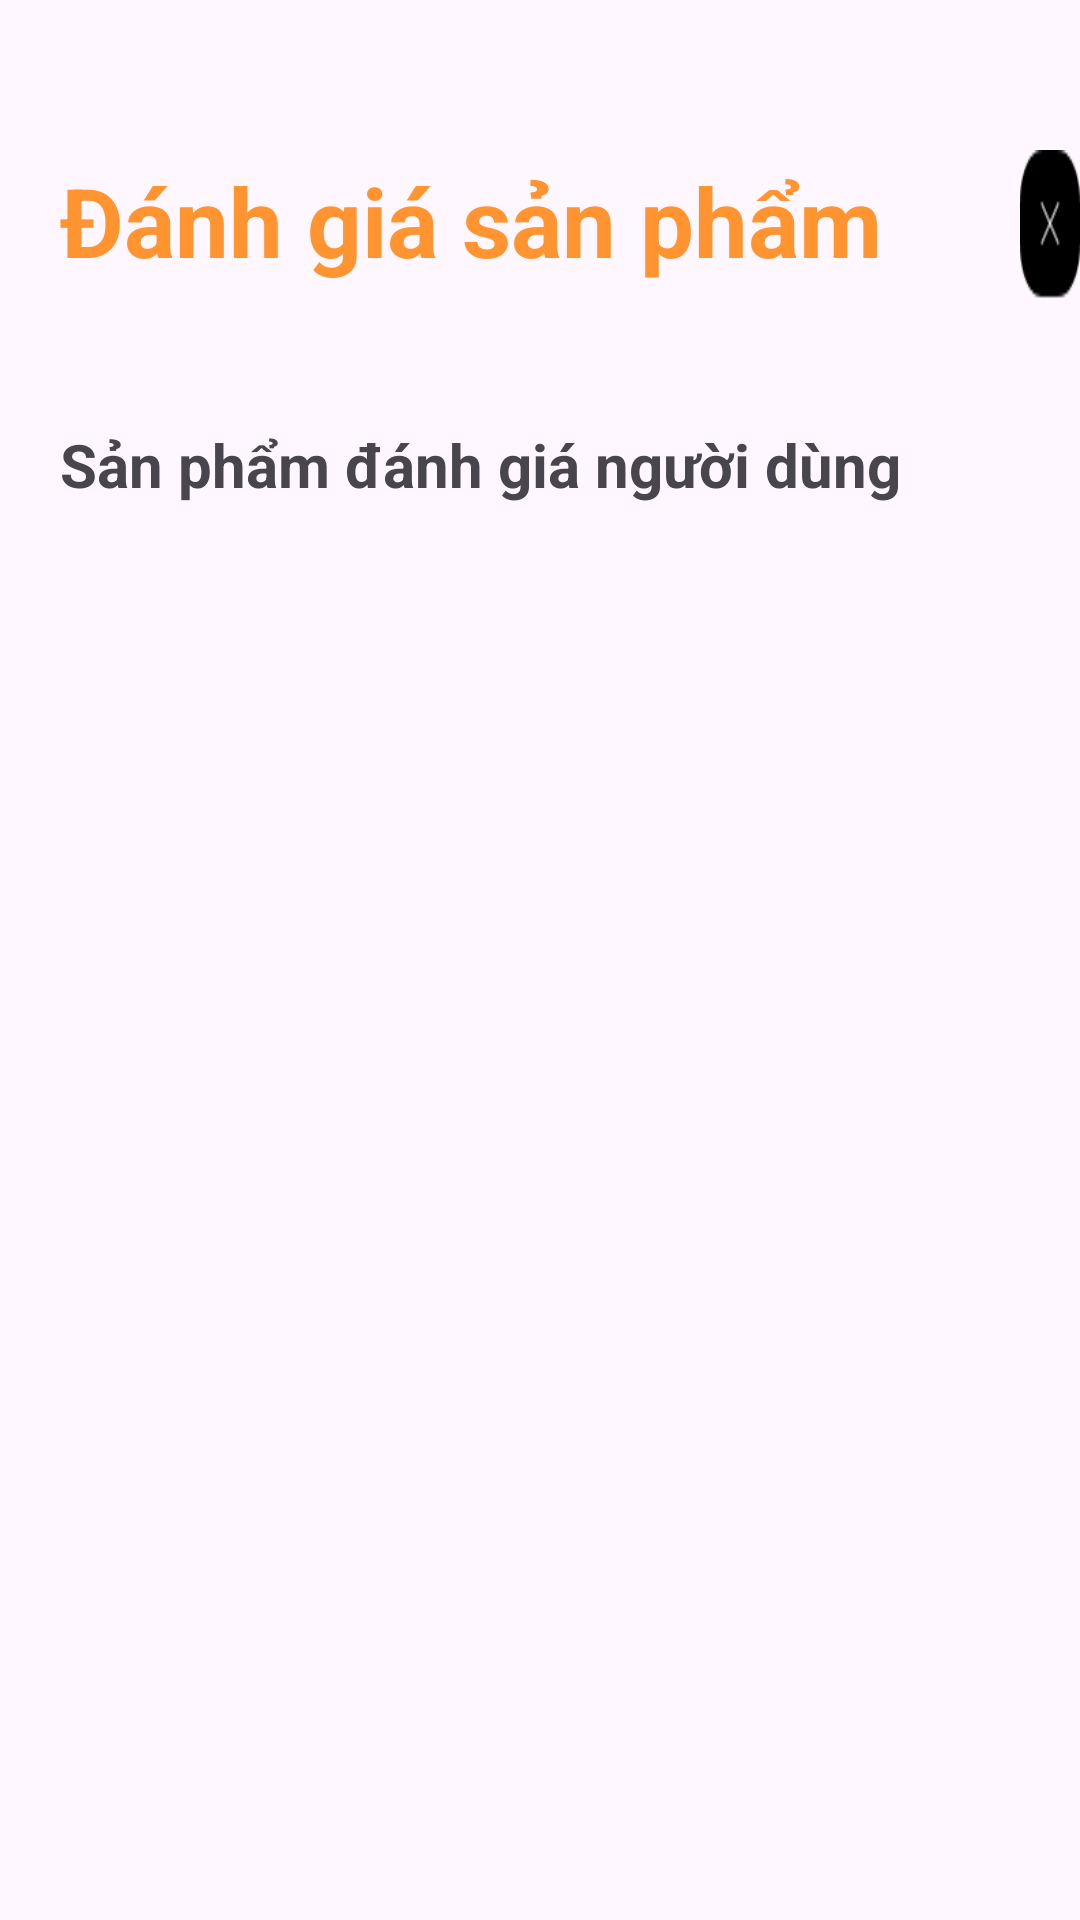

Icons on this 1080x1920 Android screen, each with the point to tap as (x=x, y=y):
close: (x=1050, y=224)
